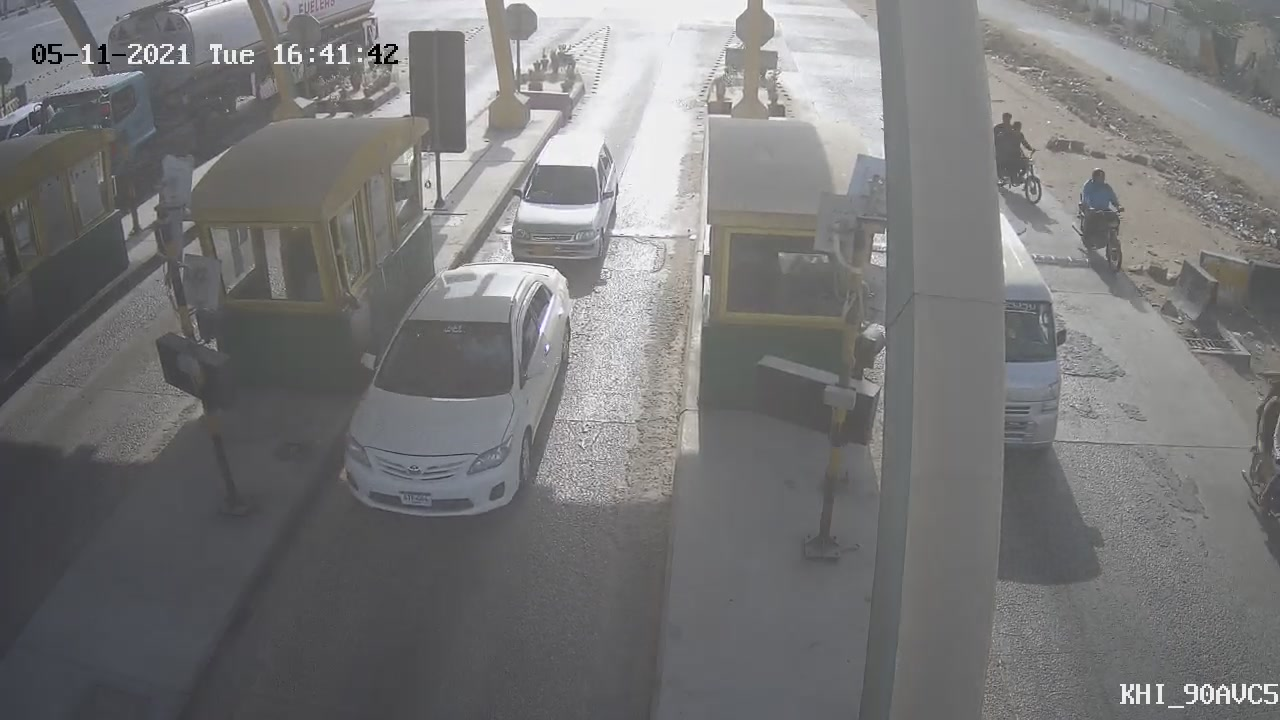F1: (326, 251, 589, 543), (499, 120, 635, 283)
